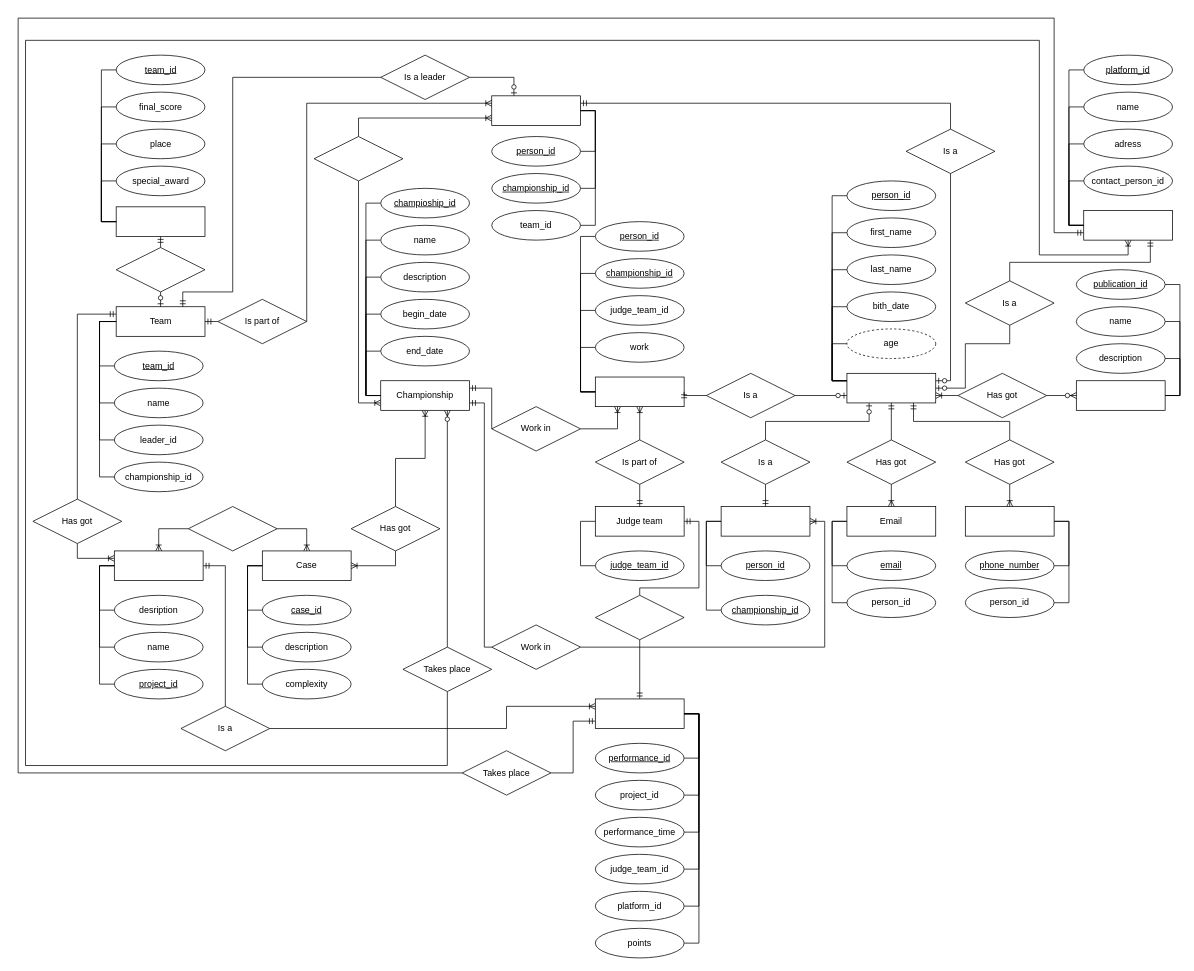
This 1194x971 diagram has some shape labels left out. Each missing label, with the centre of its shape:
"Evaluate" belongs at point 639,617.
"Has" belongs at point 160,269.
"Include" belongs at point 232,528.
"Judge" belongs at point 639,391.
"Mentor" belongs at point 765,521.
"Participant" belongs at point 536,110.
"Participate" belongs at point 358,158.
"People" belongs at point 891,388.
"Performance" belongs at point 639,713.
"Phone" belongs at point 1009,521.
"Platform" belongs at point 1128,225.
"Project" belongs at point 158,565.
"Publication" belongs at point 1120,395.
"Score" belongs at point 160,221.
